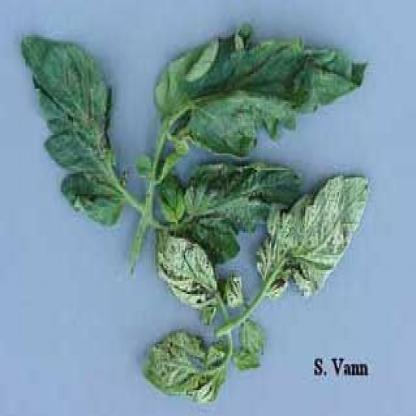Tomato leaf bacterial spot: (149, 26, 373, 163), (22, 41, 129, 218), (261, 168, 379, 296), (153, 233, 223, 322)
